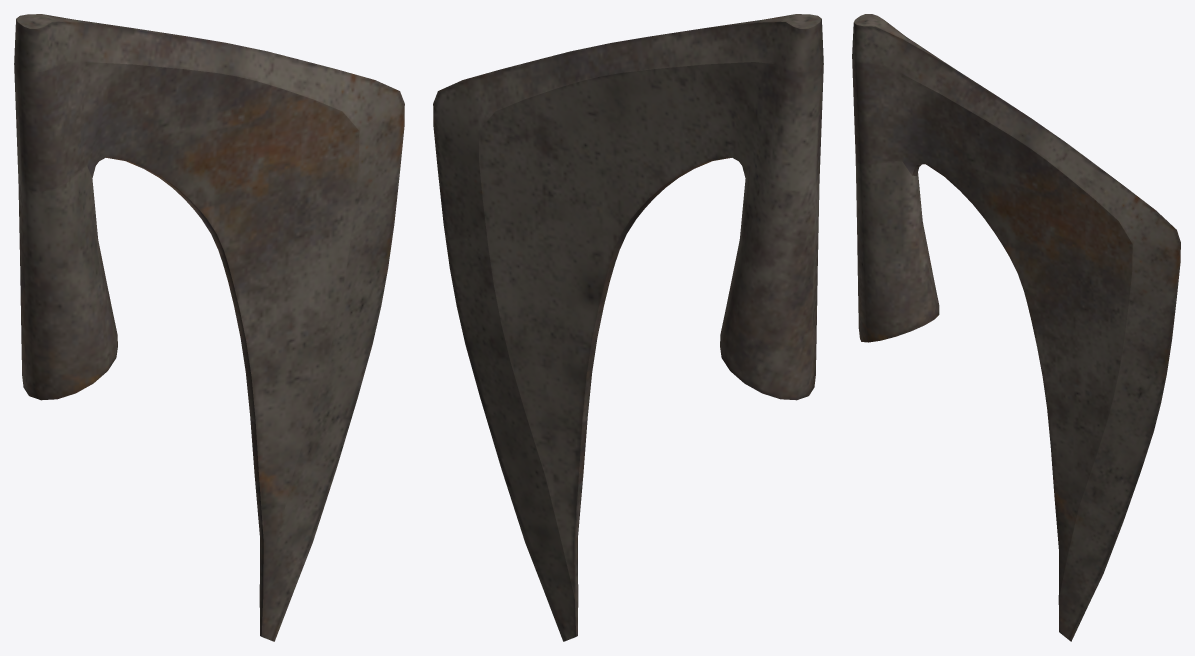
Rendered from wm_mordor_set1_axe_a01_blade.fbx.
3 views of the same model, side by side, from view 1: azimuth 30°, elevation 25°; view 2: azimuth 150°, elevation 25°; view 3: azimuth 330°, elevation 25° (orthographic). The views are drawn at different scales.
Visible parts, largest first — view 1: wm_mordor_set1_axe_a01_blade; view 2: wm_mordor_set1_axe_a01_blade; view 3: wm_mordor_set1_axe_a01_blade.
Boxes of the visible parts, x1,y1,x2,y2 form: wm_mordor_set1_axe_a01_blade: (14, 14, 404, 641); wm_mordor_set1_axe_a01_blade: (433, 14, 823, 641); wm_mordor_set1_axe_a01_blade: (852, 14, 1180, 641).
Bounding box in the file's own units: 0.1603 × 0.0328 × 0.2685.
Materials: 1 (1 with a texture image).
